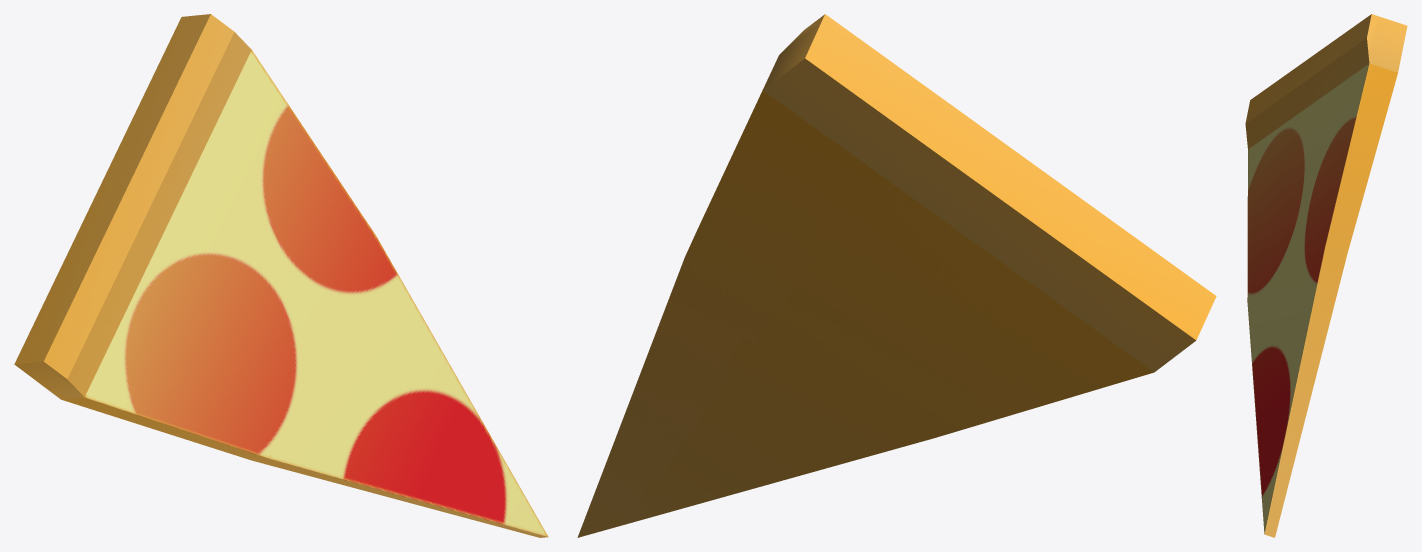
Rendered from PizzaSlice.fbx.
The picture shows the model from 3 angles, left to right: view 1: azimuth 30°, elevation 25°; view 2: azimuth 150°, elevation 25°; view 3: azimuth 270°, elevation 25°; orthographic projection. The views are drawn at different scales.
Visible parts, largest first — view 1: polySurface4; view 2: polySurface4; view 3: polySurface4.
Part boxes in pixels (<box>): polySurface4: <box>14,14,548,537</box>; polySurface4: <box>577,14,1216,537</box>; polySurface4: <box>1245,14,1407,537</box>.
Size of the model in its own units: 2.99 by 2.99 by 1.04.
